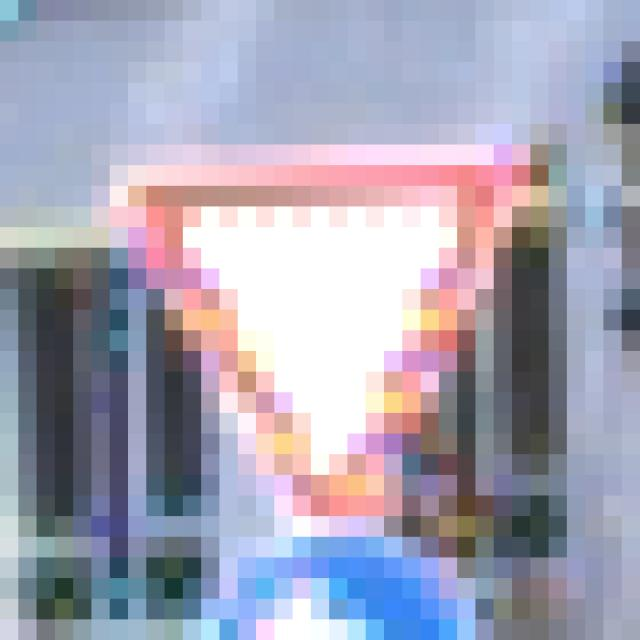Give Way: (93, 104, 550, 538)
